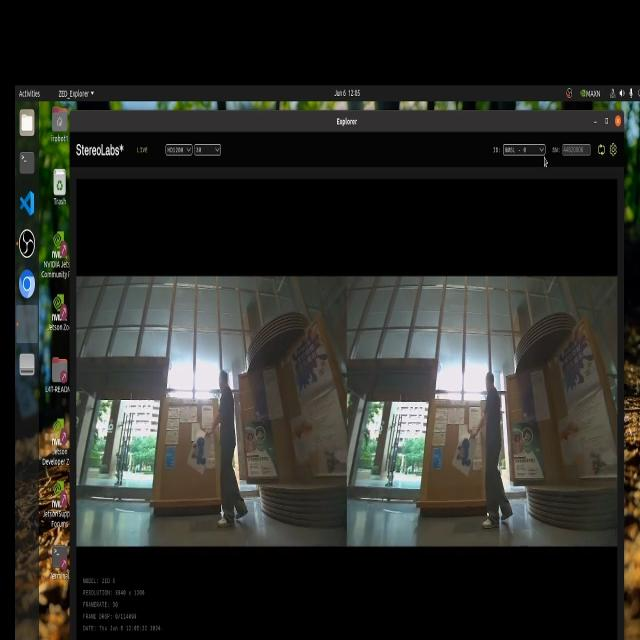blue: (456, 433, 471, 471), (194, 444, 208, 468)
